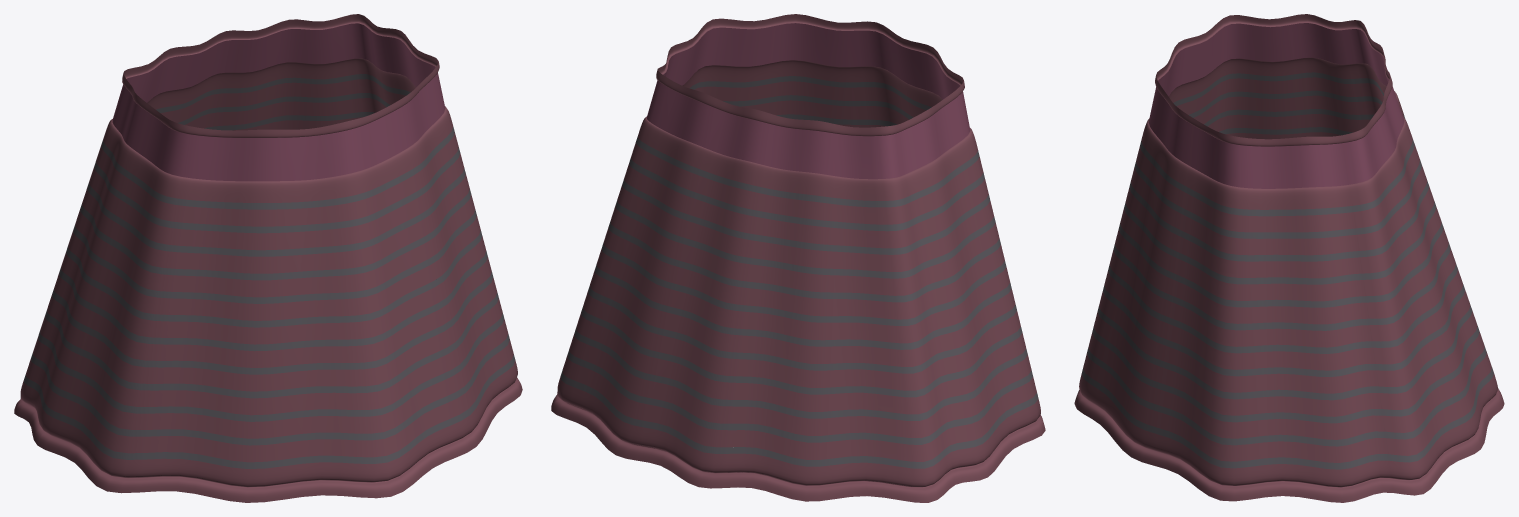
File: skirt.gltf
3 views of the same model, side by side, from view 1: azimuth 30°, elevation 25°; view 2: azimuth 150°, elevation 25°; view 3: azimuth 270°, elevation 25° (orthographic). The views are drawn at different scales.
Visible parts, largest first — view 1: top skirt; view 2: top skirt; view 3: top skirt.
Boxes of the visible parts, bbox=[...] form: top skirt: bbox=[14, 14, 522, 502]; top skirt: bbox=[551, 14, 1045, 502]; top skirt: bbox=[1074, 14, 1504, 502].
Bounding box in the file's own units: 3.19 × 2.47 × 2.93.
